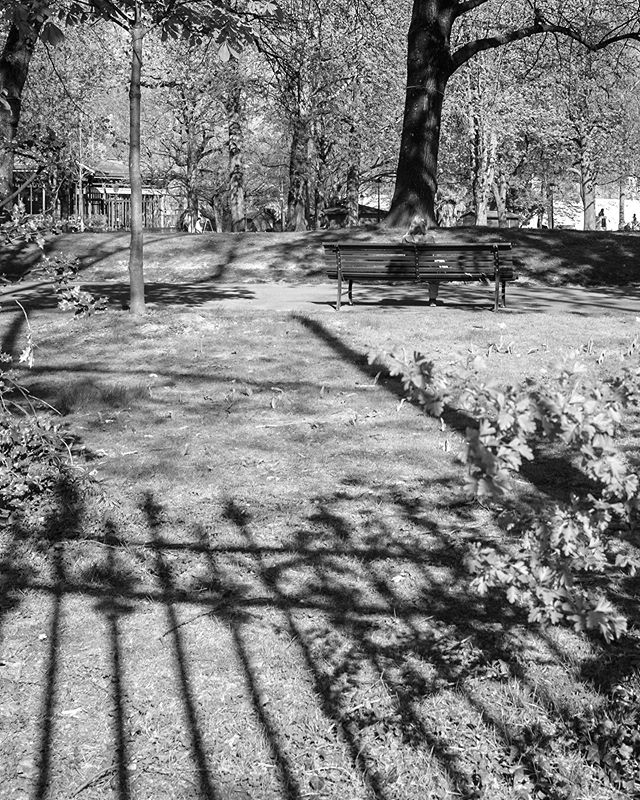bench: (309, 230, 521, 314)
vegetation: (1, 1, 631, 225)
